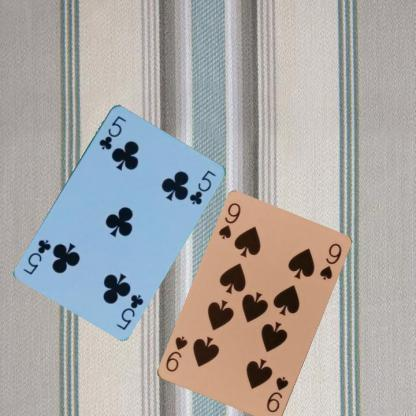5c: (114, 291, 144, 331), (96, 112, 127, 150)
9s: (216, 200, 242, 241), (264, 374, 290, 414)
